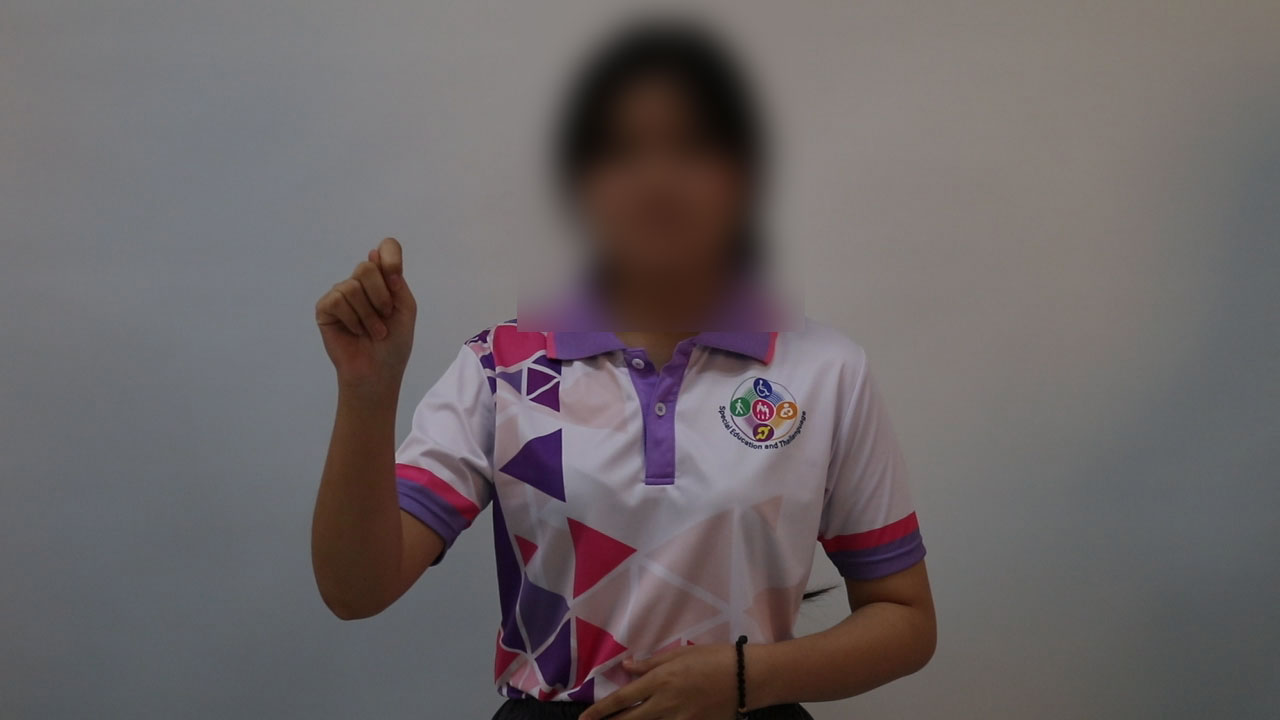tor: (281, 210, 460, 432)
